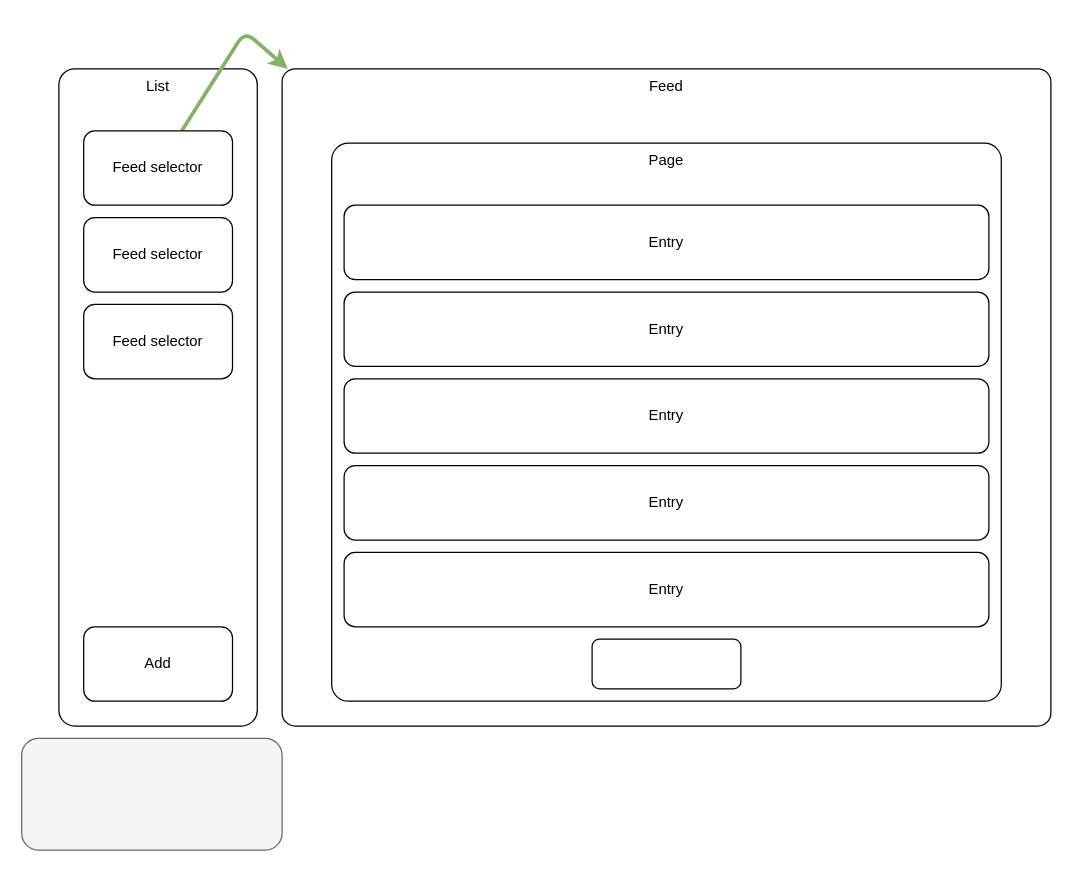
This 1073x872 diagram has some shape labels left out. Here are the shapes that lost their labels. From the top down, the centre of each, then its label:
At point (666, 663): "Show more".
At point (151, 793): "New feed form".
